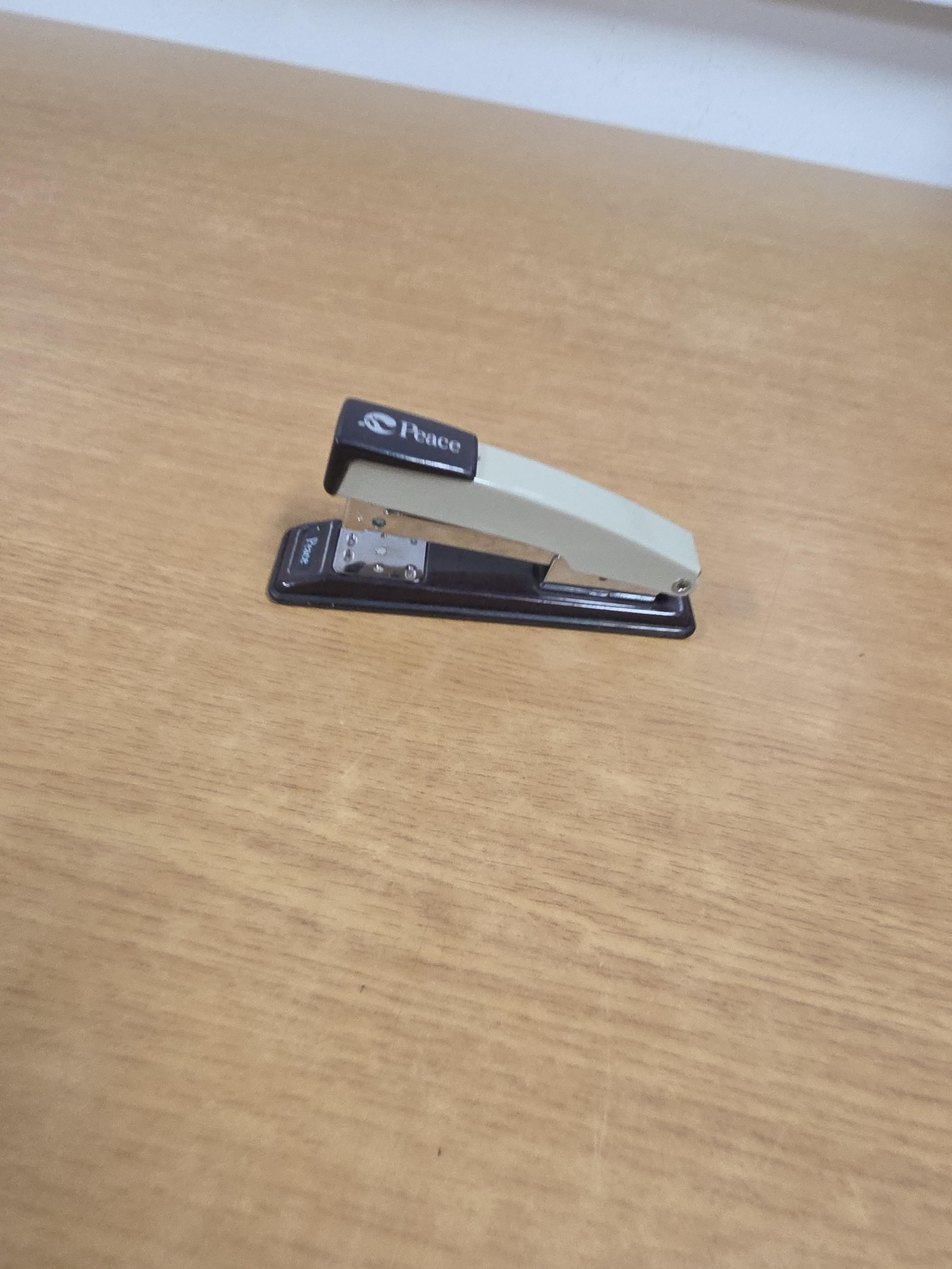stapler: (266, 397, 702, 640)
